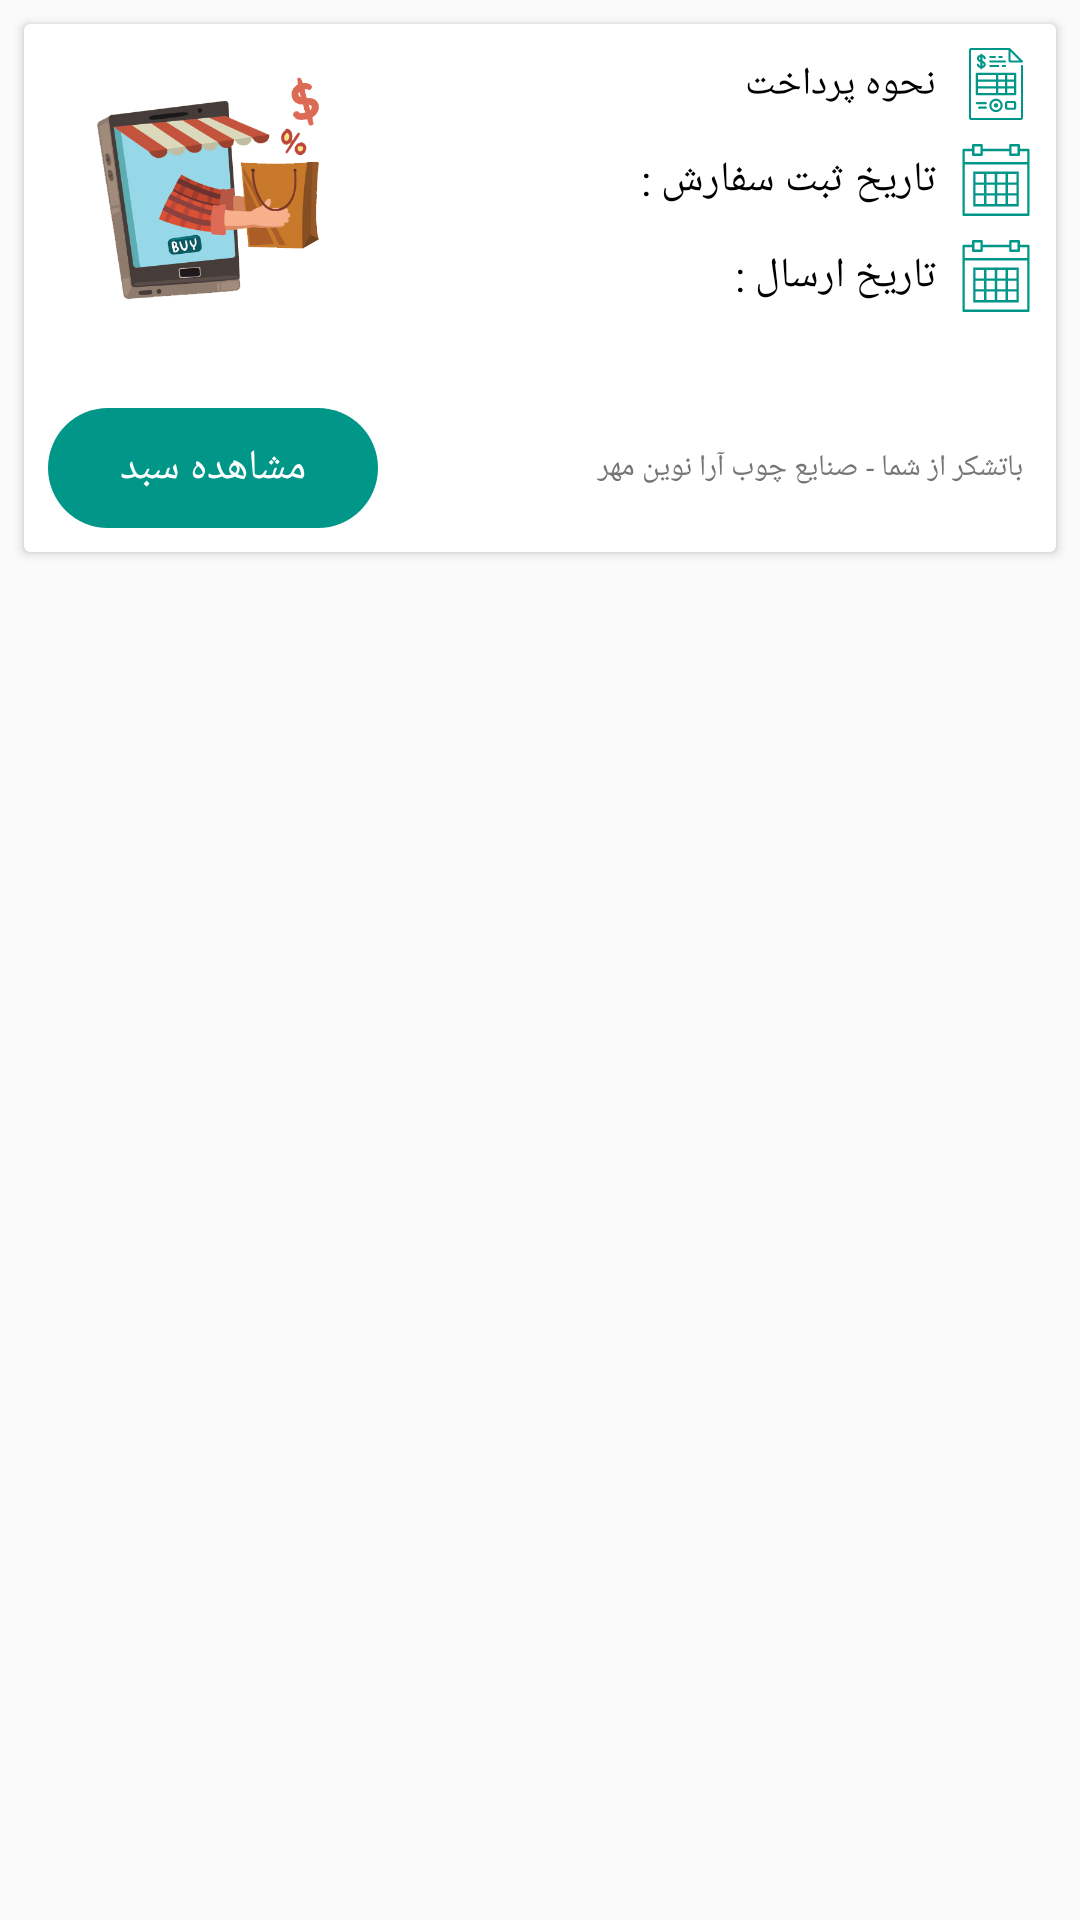

Icons on this 1080×1920 Android screen, each with the point to tap as (x=x, y=y):
calendar: (x=996, y=180), (x=996, y=276)
invoice: (x=996, y=84)
order symbol: (x=208, y=188)
